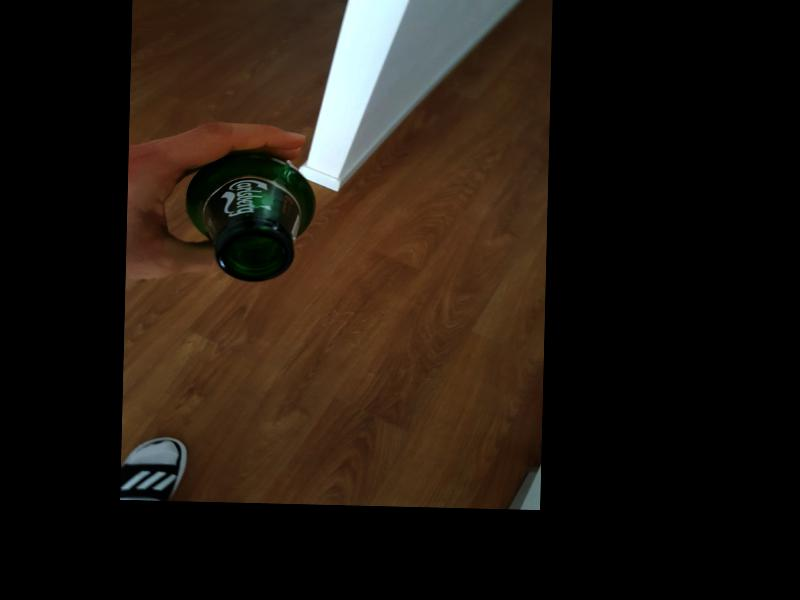Beer: (181, 150, 317, 282)
